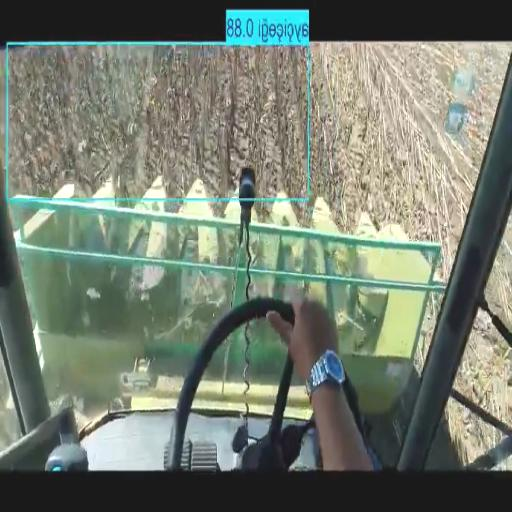ayc: (9, 45, 307, 195)
